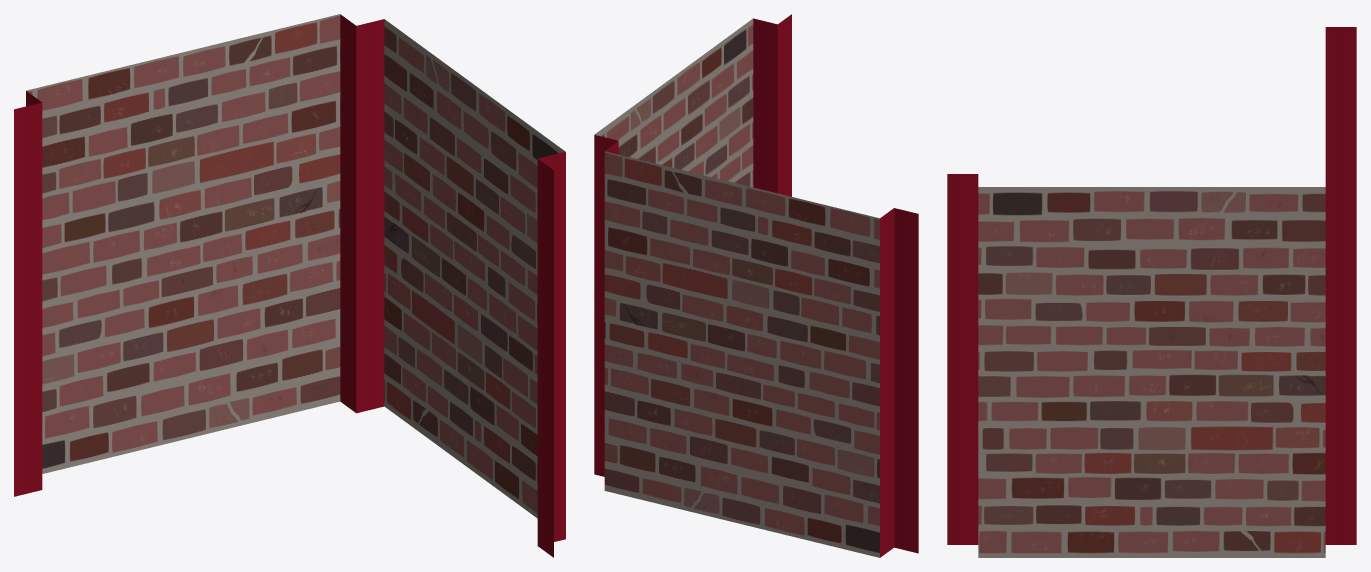
Rendered from wallcorner0.1.fbx.
3 renders of one model, left to right at view 1: azimuth 30°, elevation 25°; view 2: azimuth 150°, elevation 25°; view 3: azimuth 270°, elevation 25°, orthographic. The views are drawn at different scales.
Parts seen in each view (by area): view 1: wallcorner; view 2: wallcorner; view 3: wallcorner.
Boxes of the visible parts, x1,y1,x2,y2 form: wallcorner: (14,14,565,557); wallcorner: (594,14,918,557); wallcorner: (947,27,1356,557).
Size of the model in its own units: 52.96 by 52.96 by 52.96.
